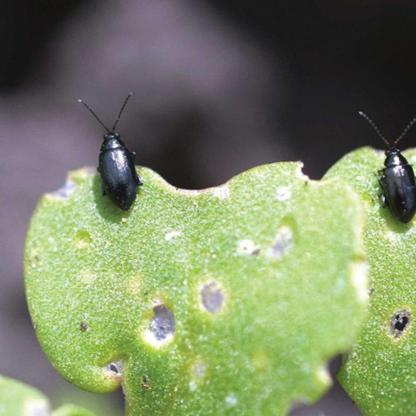beetle: (80, 109, 158, 214), (362, 115, 416, 222)
